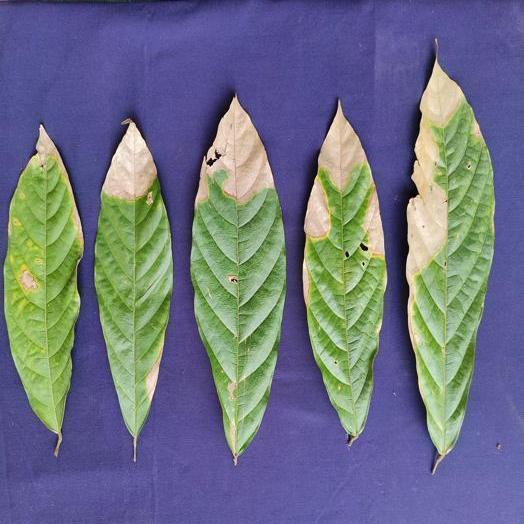Potassium: (407, 57, 494, 472), (190, 97, 285, 463), (303, 101, 386, 444), (94, 120, 172, 460), (4, 125, 83, 455)
